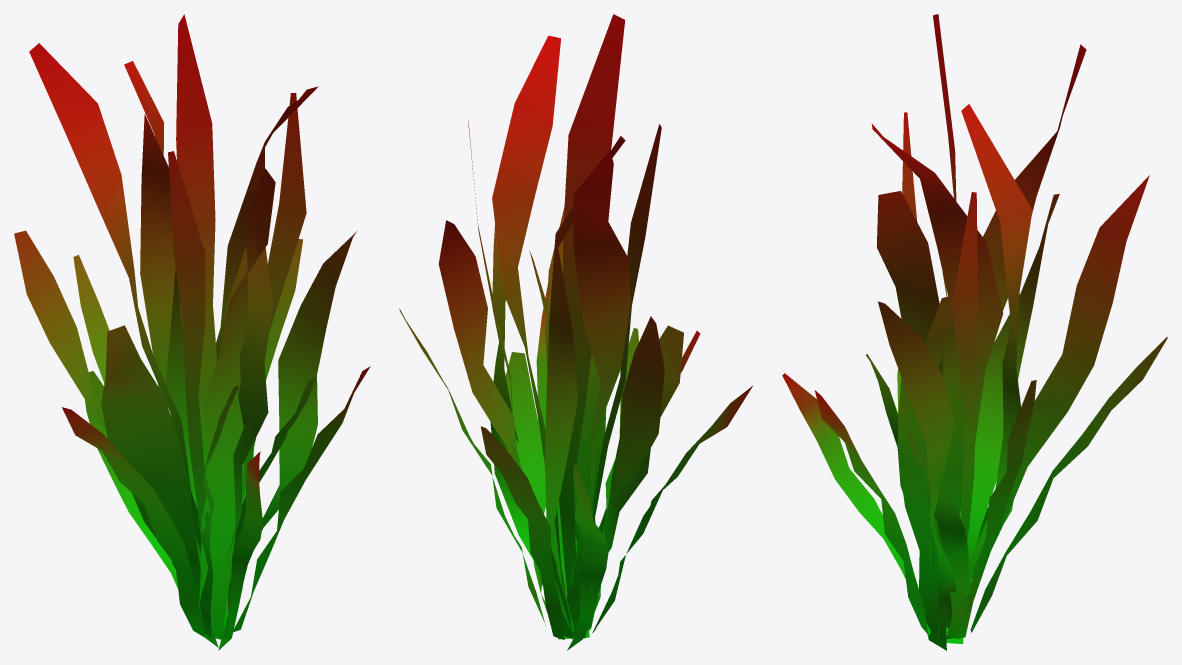
Rendered from Snake Plant_LOD2_Var8_sgtmY.fbx.
3 views of the same model, side by side, from view 1: azimuth 30°, elevation 25°; view 2: azimuth 150°, elevation 25°; view 3: azimuth 270°, elevation 25° (orthographic). The views are drawn at different scales.
Visible parts, largest first — view 1: _0e1c_Var8_LOD2; view 2: _0e1c_Var8_LOD2; view 3: _0e1c_Var8_LOD2.
Boxes of the visible parts, x1=… form: _0e1c_Var8_LOD2: x1=14, y1=14, x2=370, y2=650; _0e1c_Var8_LOD2: x1=399, y1=14, x2=752, y2=650; _0e1c_Var8_LOD2: x1=782, y1=14, x2=1167, y2=650.
Size of the model in its own units: 56.16 by 116 by 66.03.
